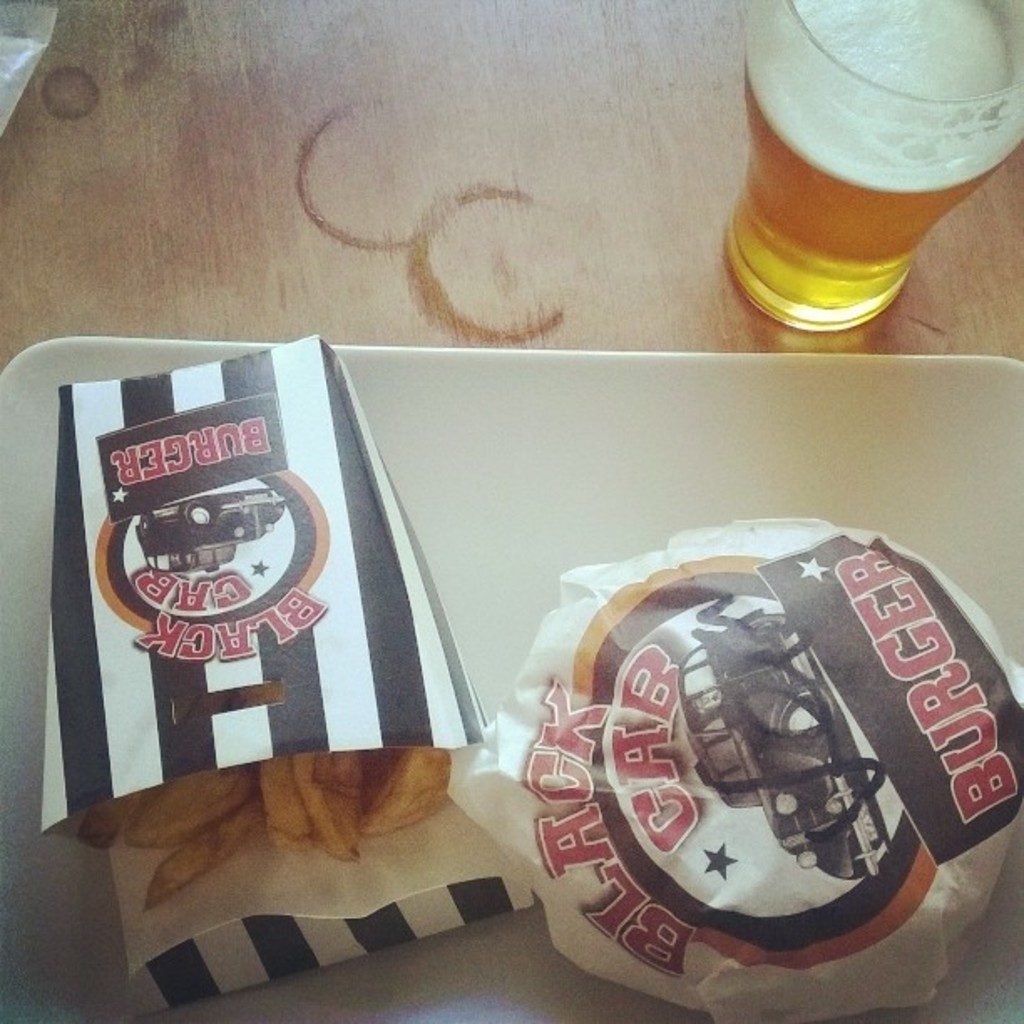Beer: (721, 0, 1012, 322)
